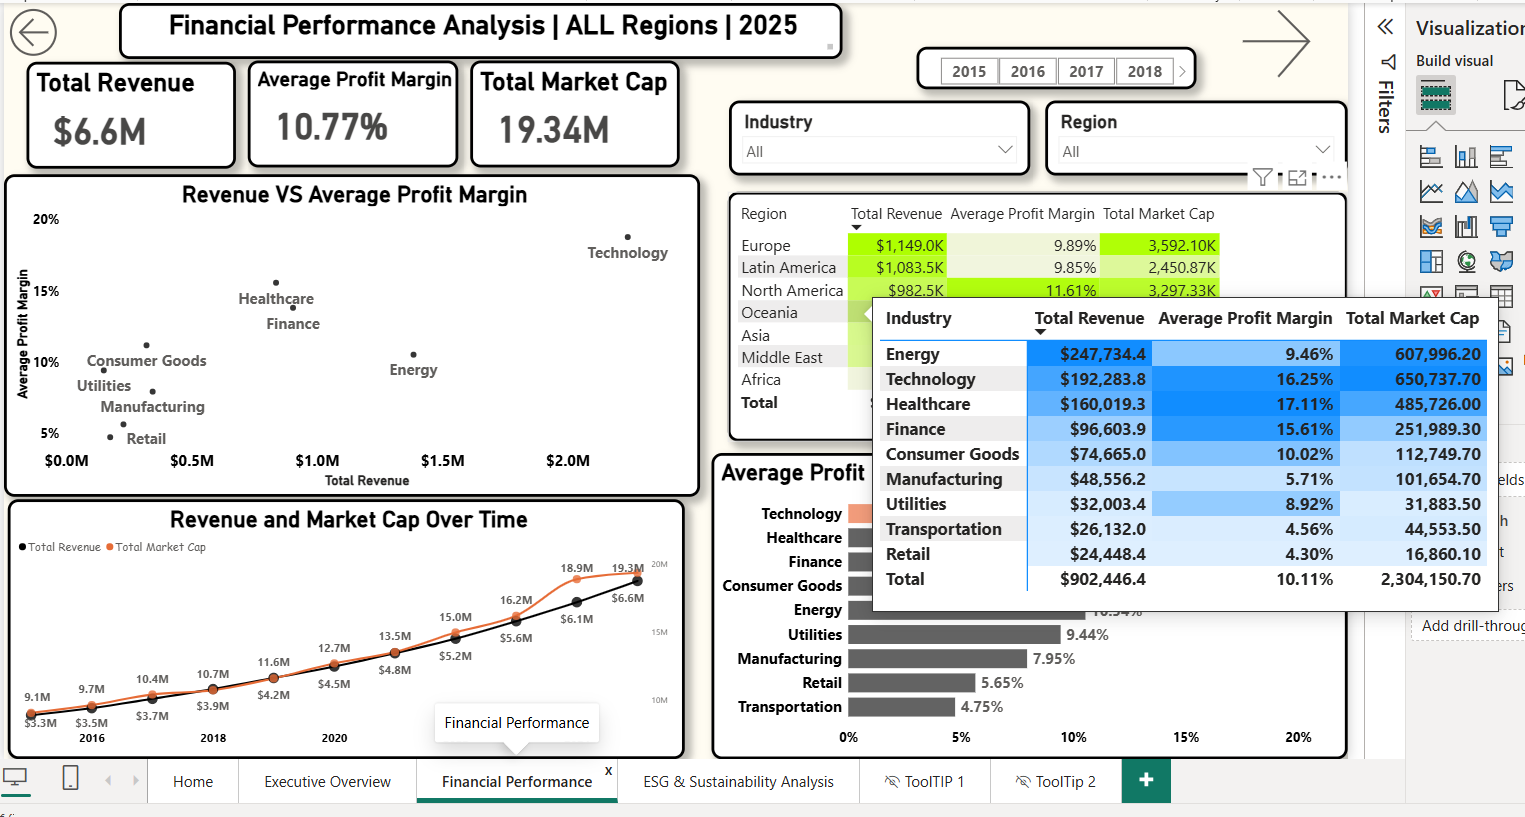

Layout of this report page (visuals, bound fields, positions):
{"tool":"powerbi","page":{"name":"Financial Performance","canvas":[1920,1080],"ordinal":2},"visuals":[{"type":"textbox","box":[164.3,0,1033.9,80.4],"z":0},{"type":"slicer","fields":{"Values":["dim_date.Year"]},"box":[1303.6,62.5,400,60.7],"z":1000},{"type":"slicer","fields":{"Values":["dim_company.Industry"]},"box":[1035.7,139.3,430.4,107.1],"z":2000},{"type":"slicer","fields":{"Values":["dim_company.Region"]},"box":[1487.5,139.3,432.1,107.1],"z":3000},{"type":"cardVisual","title":"Total Revenue","fields":{"Data":["dim_company.Total Revenue"]},"box":[32.9,83.7,299,153.1],"z":4000},{"type":"cardVisual","title":"Average Profit Margin","fields":{"Data":["dim_company.Average Profit Margin"]},"box":[349,81.9,300.8,153.1],"z":5000},{"type":"cardVisual","title":"Total Market Cap","fields":{"Data":["Fact_table.Total Market Cap"]},"box":[666.9,81.9,299,153.1],"z":6000},{"type":"scatterChart","title":"Revenue VS Average Profit Margin","fields":{"X":["dim_company.Total Revenue"],"Y":["dim_company.Average Profit Margin"],"Category":["dim_company.Industry"]},"box":[0,245,994.2,461.1],"z":7000},{"type":"clusteredBarChart","fields":{"Y":["dim_company.Average Profit Margin"],"Category":["dim_company.Industry"]},"box":[1010.7,642.9,908.9,437.5],"z":8000},{"type":"lineChart","title":"Revenue and Market Cap Over Time","fields":{"Category":["dim_date.Year"],"Y":["dim_company.Total Revenue"],"Y2":["Fact_table.Total Market Cap"]},"box":[5.4,709.6,967.2,371],"z":9000},{"type":"pivotTable","fields":{"Rows":["dim_company.Region"],"Values":["dim_company.Total Revenue","dim_company.Average Profit Margin","Fact_table.Total Market Cap"]},"box":[1033.9,269.6,885.7,357.1],"z":10000},{"type":"actionButton","box":[1758.9,0,160.7,116.1],"z":11000},{"type":"actionButton","box":[0,0,475,83.9],"z":12000}]}

Visuals, with their boxes on the page's 1920x1080 design canvas (x1, y1, x2, y2). These are canvas units, not pixel positions in the 1525x817 screenshot, which may show the page scaled, cropped or inside an application window:
textbox: {"x1": 164, "y1": 0, "x2": 1198, "y2": 80}
slicer - dim_date.Year: {"x1": 1304, "y1": 62, "x2": 1704, "y2": 123}
slicer - dim_company.Industry: {"x1": 1036, "y1": 139, "x2": 1466, "y2": 246}
slicer - dim_company.Region: {"x1": 1488, "y1": 139, "x2": 1920, "y2": 246}
"Total Revenue" cardVisual: {"x1": 33, "y1": 84, "x2": 332, "y2": 237}
"Average Profit Margin" cardVisual: {"x1": 349, "y1": 82, "x2": 650, "y2": 235}
"Total Market Cap" cardVisual: {"x1": 667, "y1": 82, "x2": 966, "y2": 235}
"Revenue VS Average Profit Margin" scatterChart: {"x1": 0, "y1": 245, "x2": 994, "y2": 706}
clusteredBarChart - dim_company.Average Profit Margin x dim_company.Industry: {"x1": 1011, "y1": 643, "x2": 1920, "y2": 1080}
"Revenue and Market Cap Over Time" lineChart: {"x1": 5, "y1": 710, "x2": 973, "y2": 1081}
pivotTable - dim_company.Region x dim_company.Total Revenue: {"x1": 1034, "y1": 270, "x2": 1920, "y2": 627}
actionButton: {"x1": 1759, "y1": 0, "x2": 1920, "y2": 116}
actionButton: {"x1": 0, "y1": 0, "x2": 475, "y2": 84}
